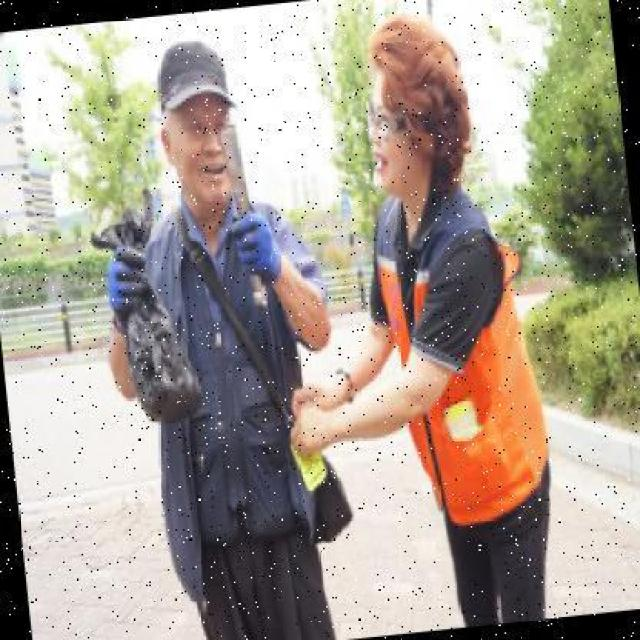Person: (254, 7, 563, 639), (77, 31, 358, 638)
